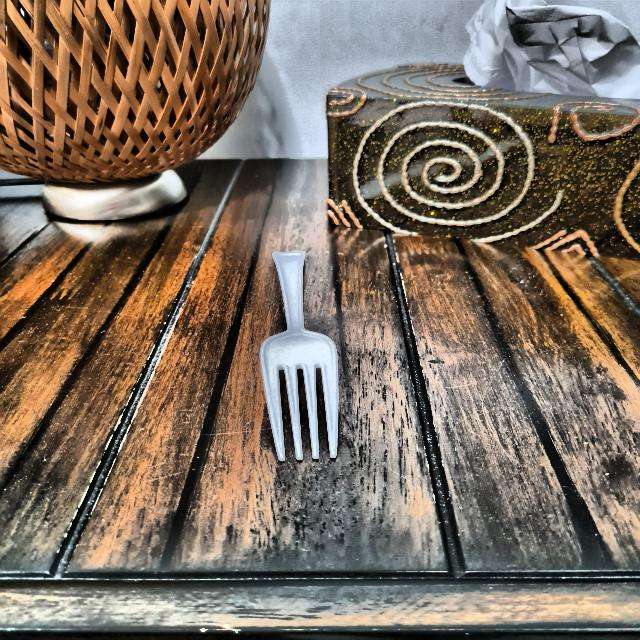plastic utensil: (261, 248, 352, 459)
